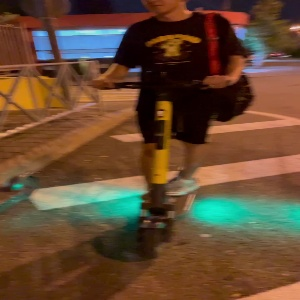human on a scooter: (86, 1, 253, 260)
